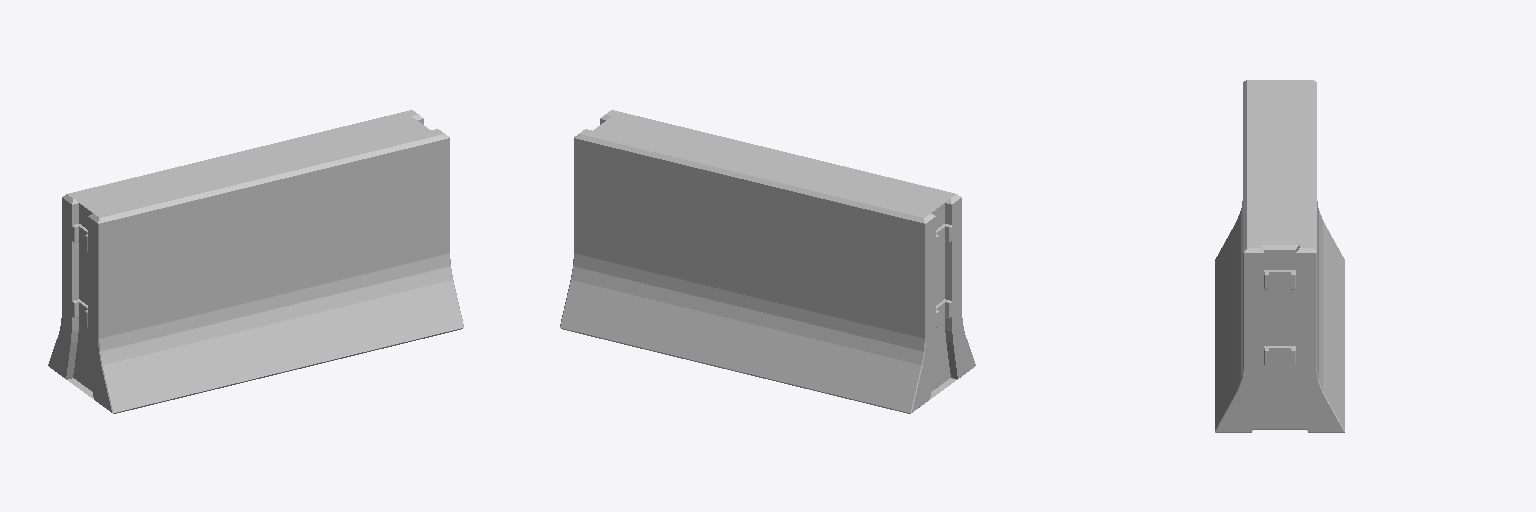
File: concrete.obj
3 views of the same model, side by side, from view 1: azimuth 30°, elevation 25°; view 2: azimuth 150°, elevation 25°; view 3: azimuth 270°, elevation 25° (orthographic).
Parts seen in each view (by area): view 1: Concrete_Block_Cube; view 2: Concrete_Block_Cube; view 3: Concrete_Block_Cube.
Part boxes in pixels (x1,y1,x2,y2): Concrete_Block_Cube: (48, 110, 463, 413); Concrete_Block_Cube: (560, 110, 975, 413); Concrete_Block_Cube: (1215, 80, 1344, 432).
Size of the model in its own units: 4.01 by 2 by 1.29.